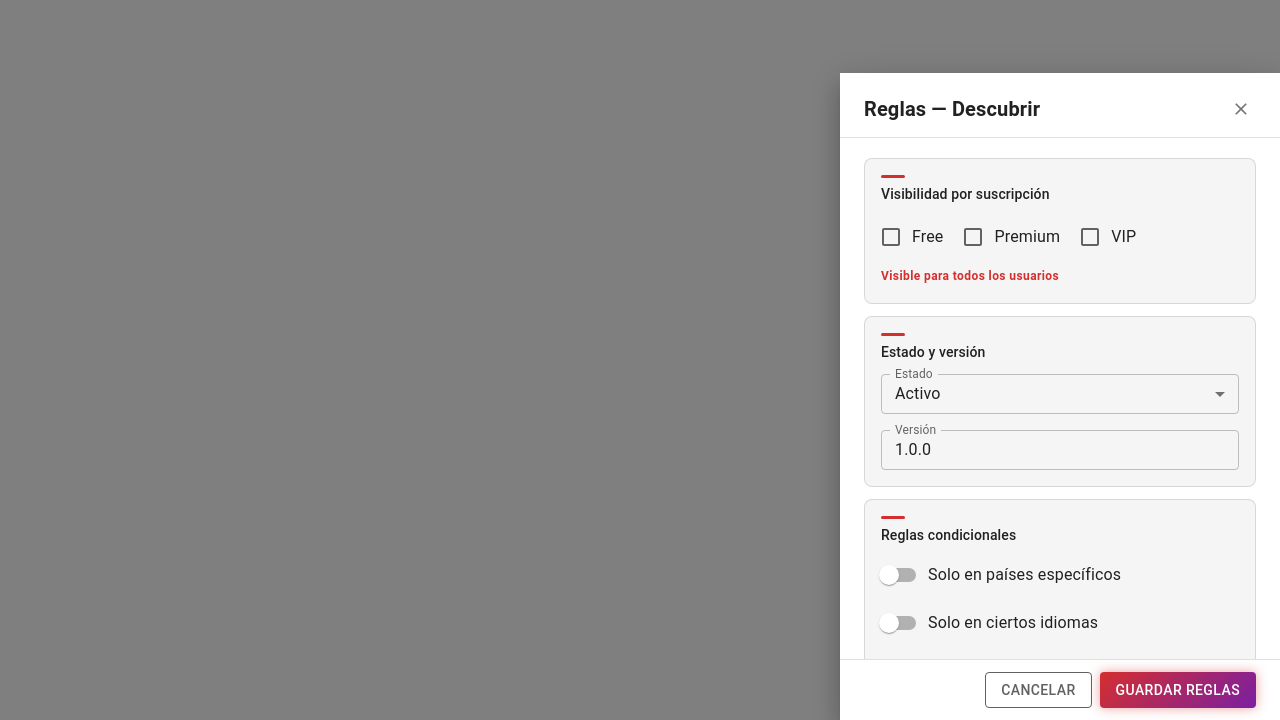
Test: RulesDrawer › checks Premium automatically when VIP is selected
Click the checkbox labelled "VIP".
click(1090, 237)  # box [1078,225,1136,249]
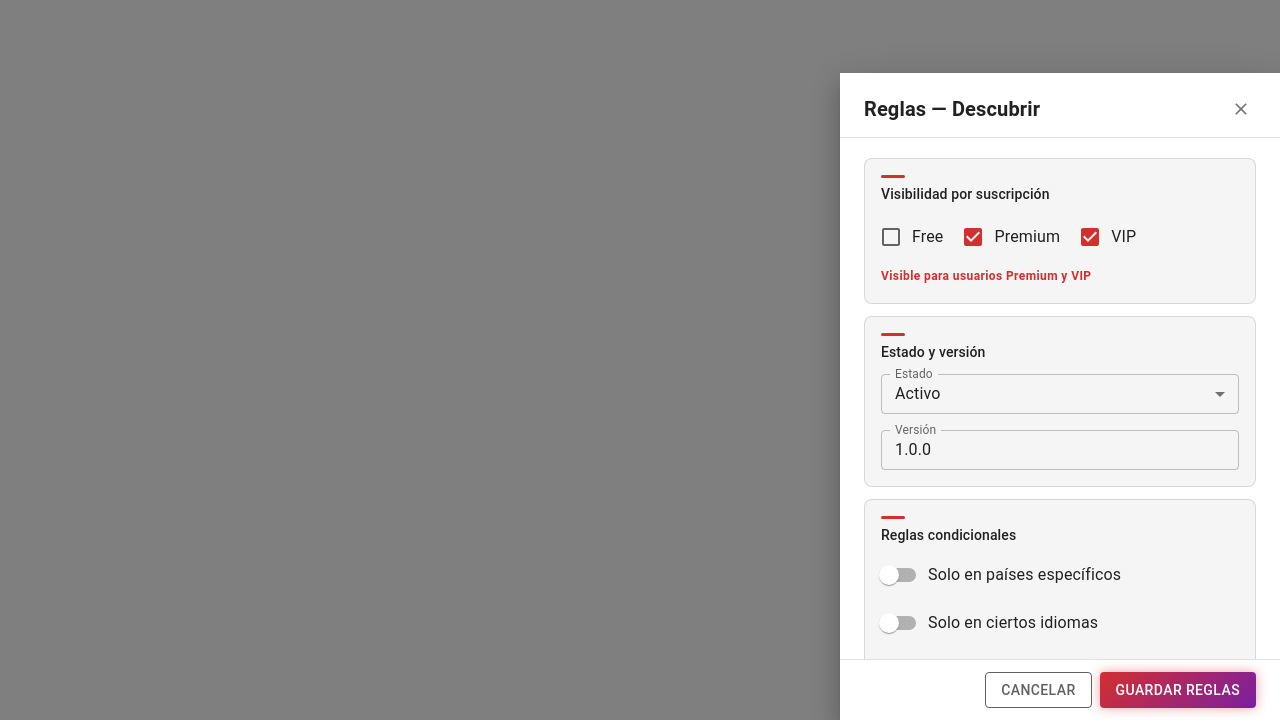
Expected: the checkbox labelled "VIP" is checked, [1078,225,1136,249]
Expected: the checkbox labelled "Premium" is checked, [962,225,1060,249]
